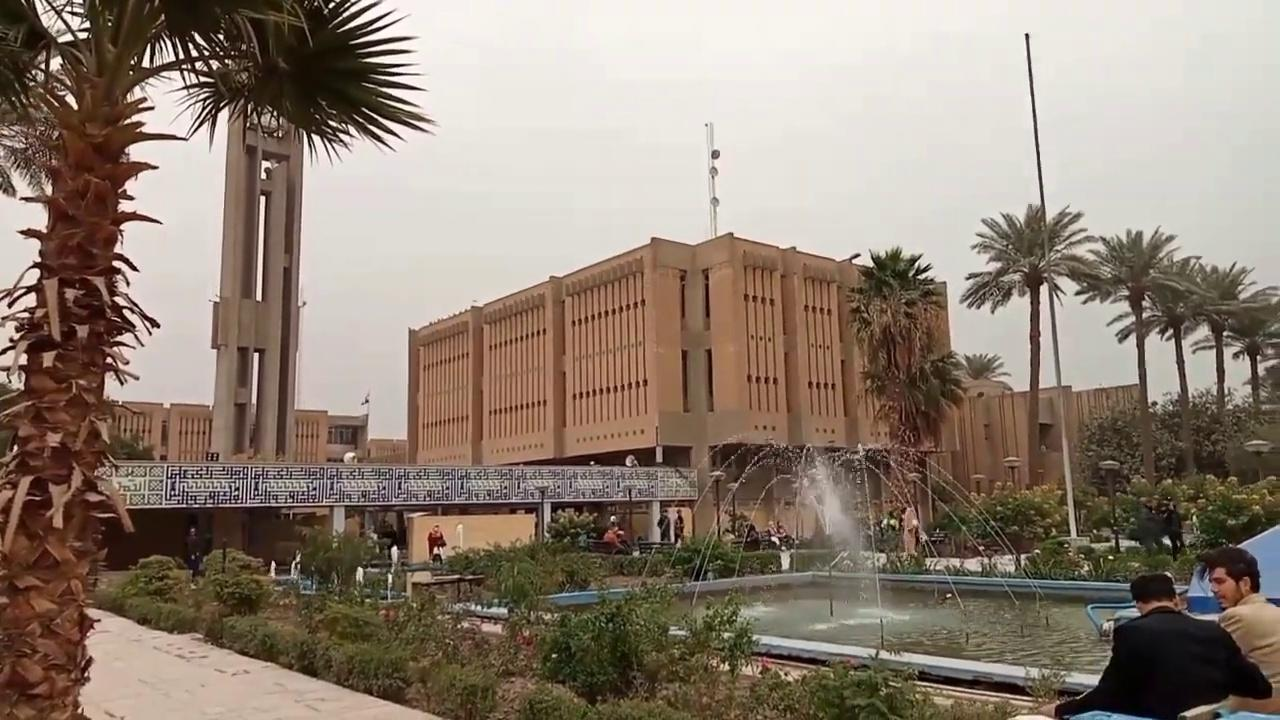car: (1085, 523, 1279, 639)
fountain: (511, 435, 1180, 695), (457, 561, 1227, 697)
person: (1053, 572, 1272, 719), (1201, 546, 1279, 717), (1137, 499, 1164, 556), (1163, 499, 1184, 561), (184, 526, 204, 581), (602, 514, 628, 553), (900, 502, 919, 554), (427, 524, 446, 567), (380, 521, 397, 561), (656, 507, 671, 542), (673, 508, 685, 547), (744, 522, 760, 551), (764, 520, 780, 549), (289, 548, 301, 579)
tree: (0, 0, 438, 717), (146, 0, 439, 462), (148, 0, 439, 167), (959, 201, 1094, 492), (842, 244, 966, 550), (1072, 224, 1194, 488), (1138, 254, 1210, 478), (1184, 259, 1255, 418), (1225, 289, 1279, 412), (959, 351, 1010, 382)
